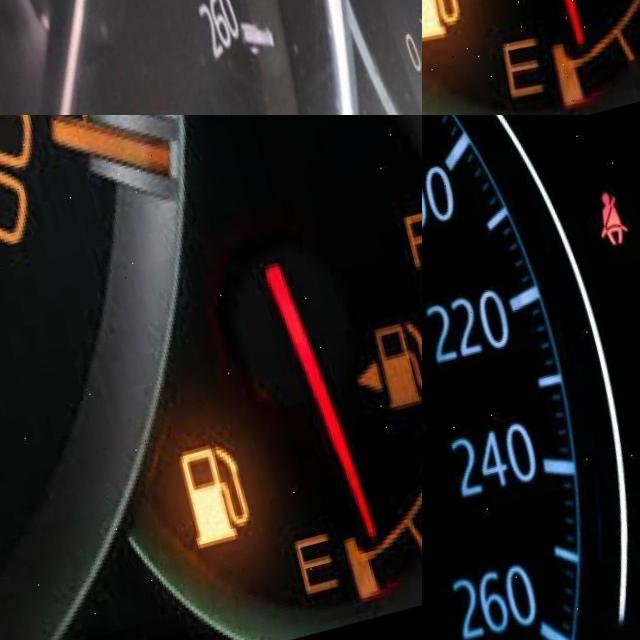Seat Belt: (574, 205, 619, 266)
